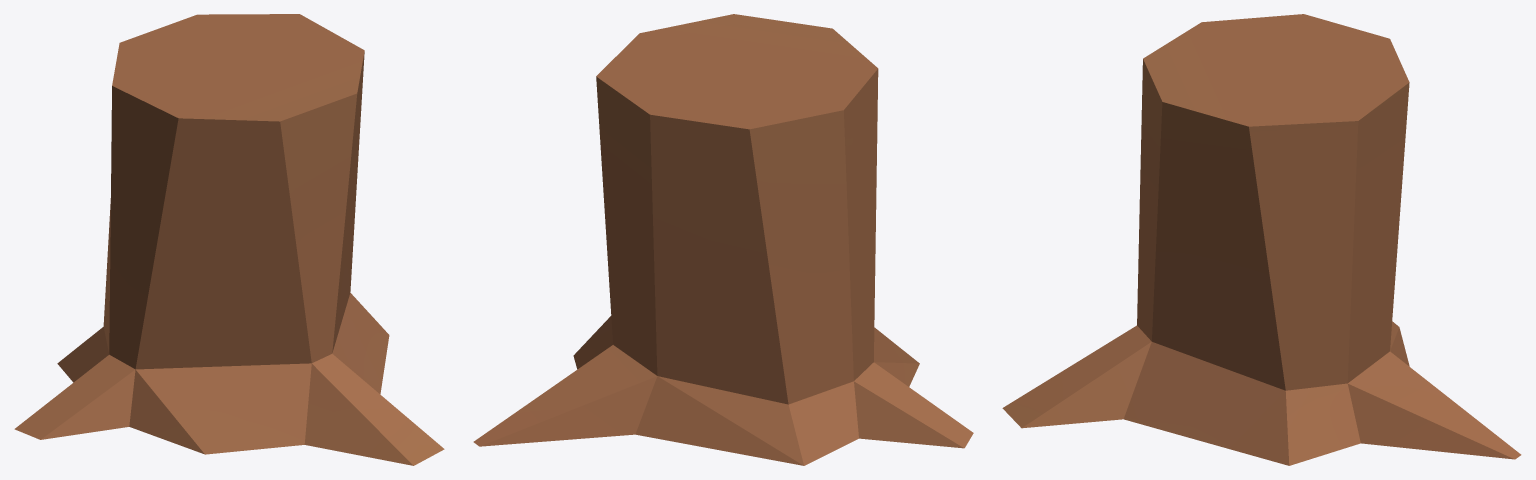
File: stump.fbx
The picture shows the model from 3 angles, left to right: view 1: azimuth 30°, elevation 25°; view 2: azimuth 150°, elevation 25°; view 3: azimuth 270°, elevation 25°; orthographic projection. The views are drawn at different scales.
Visible parts, largest first — view 1: stump-small; view 2: stump-small; view 3: stump-small.
Boxes of the visible parts, box(x1,y1,x2,y2) form: stump-small: box(14, 14, 444, 465); stump-small: box(473, 14, 973, 465); stump-small: box(1002, 14, 1521, 465).
Bounding box in the file's own units: 71.63 × 56.15 × 83.33.
Materials: 1 (1 with a texture image).
